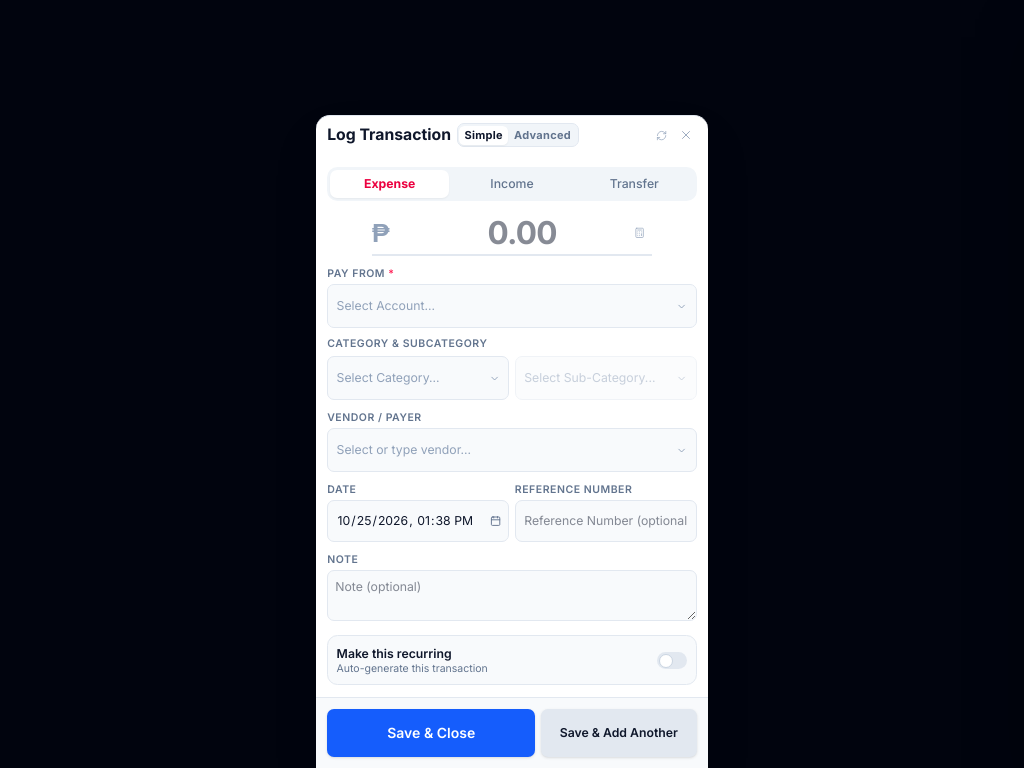
Test: AddTransactionModal › Vendor Handling › switches transaction type between Expense, Income, and Transfer
This screenshot has width=1024, height=768.
Expected: the text "Pay From" is shown, [327, 267, 385, 280]
Expected: the text "Transfer To" is not shown
# Click Income tab: label changes to "Deposit To"
Step 1. Click the button "Income" → [512, 184], box [452, 170, 572, 198]
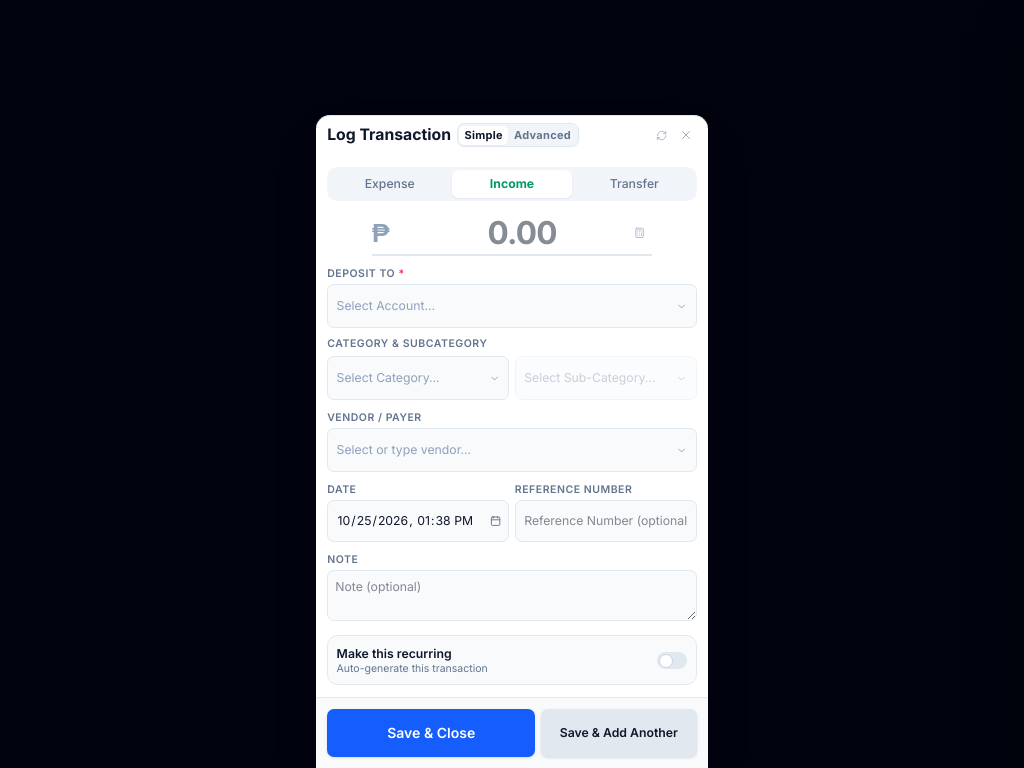
Expected: the text "Deposit To" is shown, [327, 267, 395, 280]
# Click Transfer tab: destination account appears
Step 2. Click the button "Transfer" → [634, 184], box [574, 170, 694, 198]
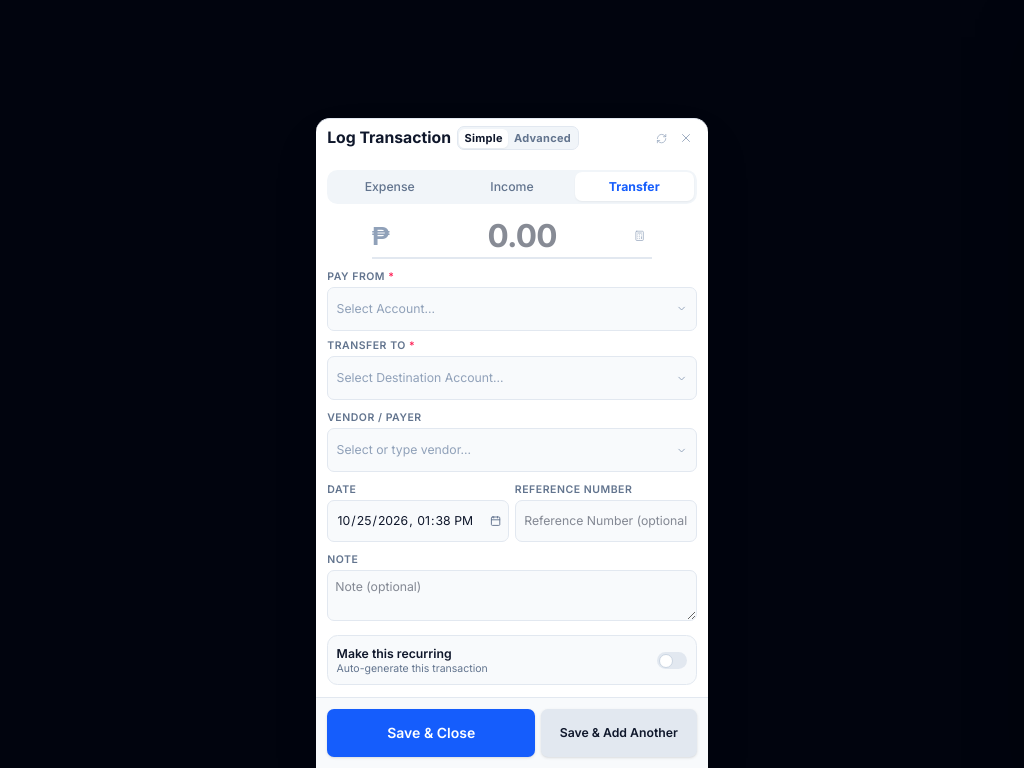
Expected: the text "Transfer To" is shown, [327, 339, 406, 352]
